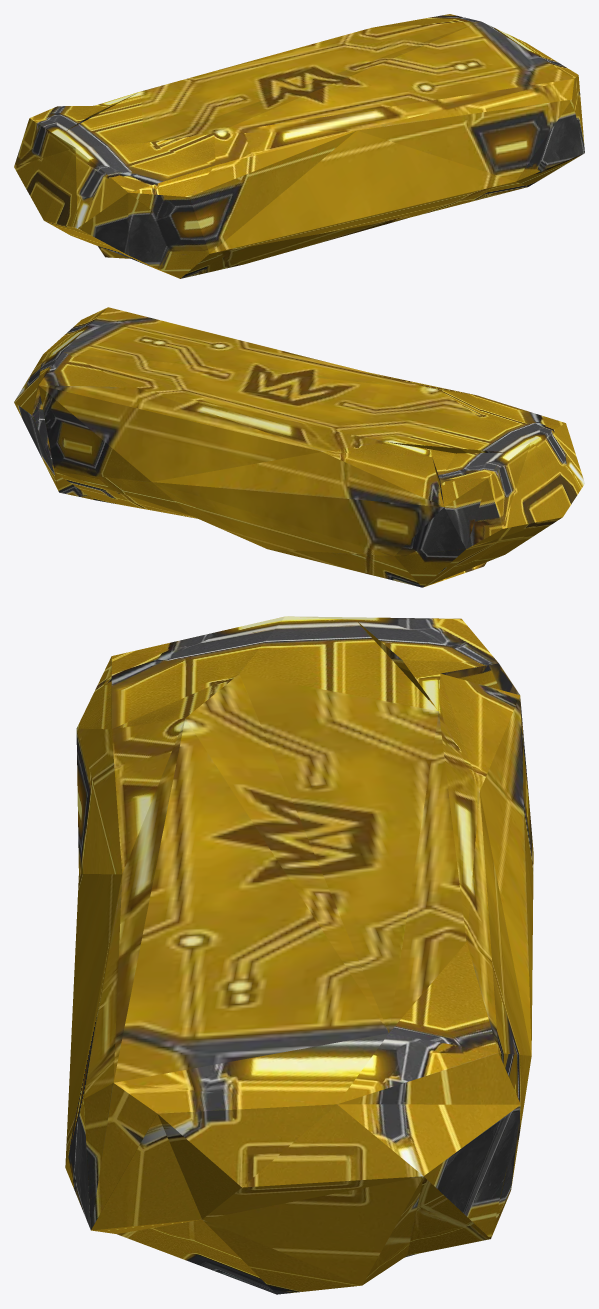
File: bar-gold.glb
3 views of the same model, one above another, from view 1: azimuth 30°, elevation 25°; view 2: azimuth 150°, elevation 25°; view 3: azimuth 270°, elevation 25° (orthographic). The views are drawn at different scales.
Visible parts, largest first — view 1: output_unwrapped; view 2: output_unwrapped; view 3: output_unwrapped.
Boxes of the visible parts, bbox=[...] form: output_unwrapped: bbox=[14, 14, 584, 278]; output_unwrapped: bbox=[14, 307, 584, 587]; output_unwrapped: bbox=[65, 616, 533, 1294].
Size of the model in its own units: 1.76 by 0.4412 by 0.7077.
1 material, 1 textured.
